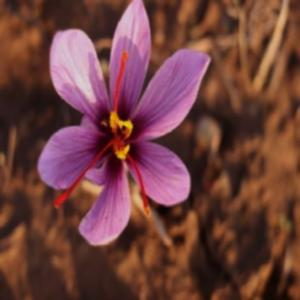Saffron: (41, 9, 200, 235)
